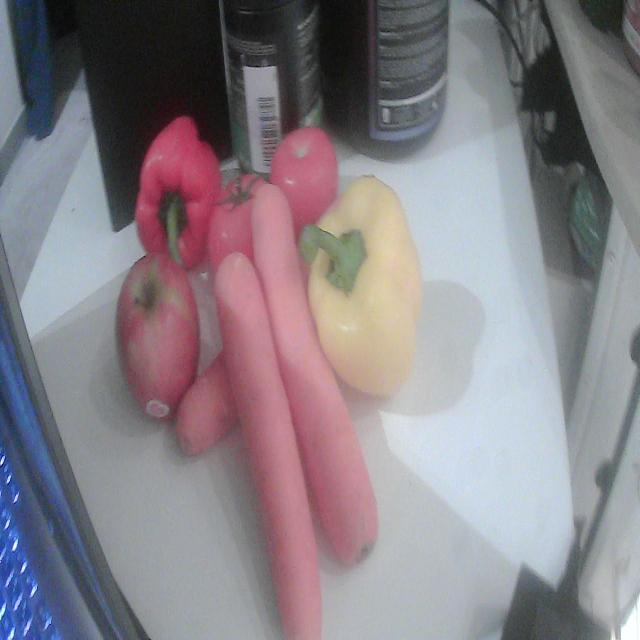Apple: (116, 255, 200, 419)
Bell Pepper: (300, 177, 422, 397), (136, 116, 221, 269)
Carrot: (252, 184, 377, 565), (213, 254, 321, 639)
Tomato: (270, 128, 338, 238), (207, 174, 266, 272)
